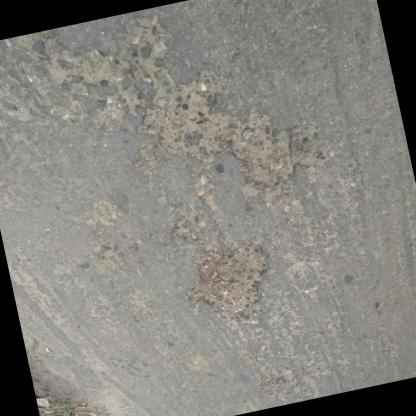pothole: (130, 75, 232, 176), (174, 235, 280, 332), (221, 102, 304, 198)
